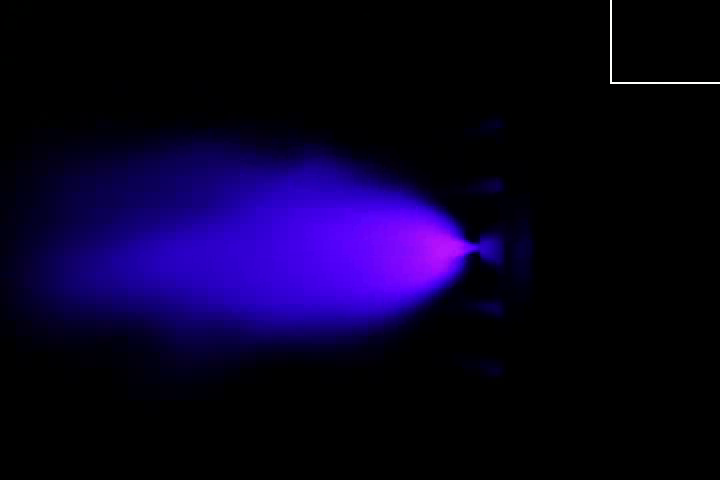burner cap: (476, 229, 507, 269)
stable: (365, 192, 476, 301)
